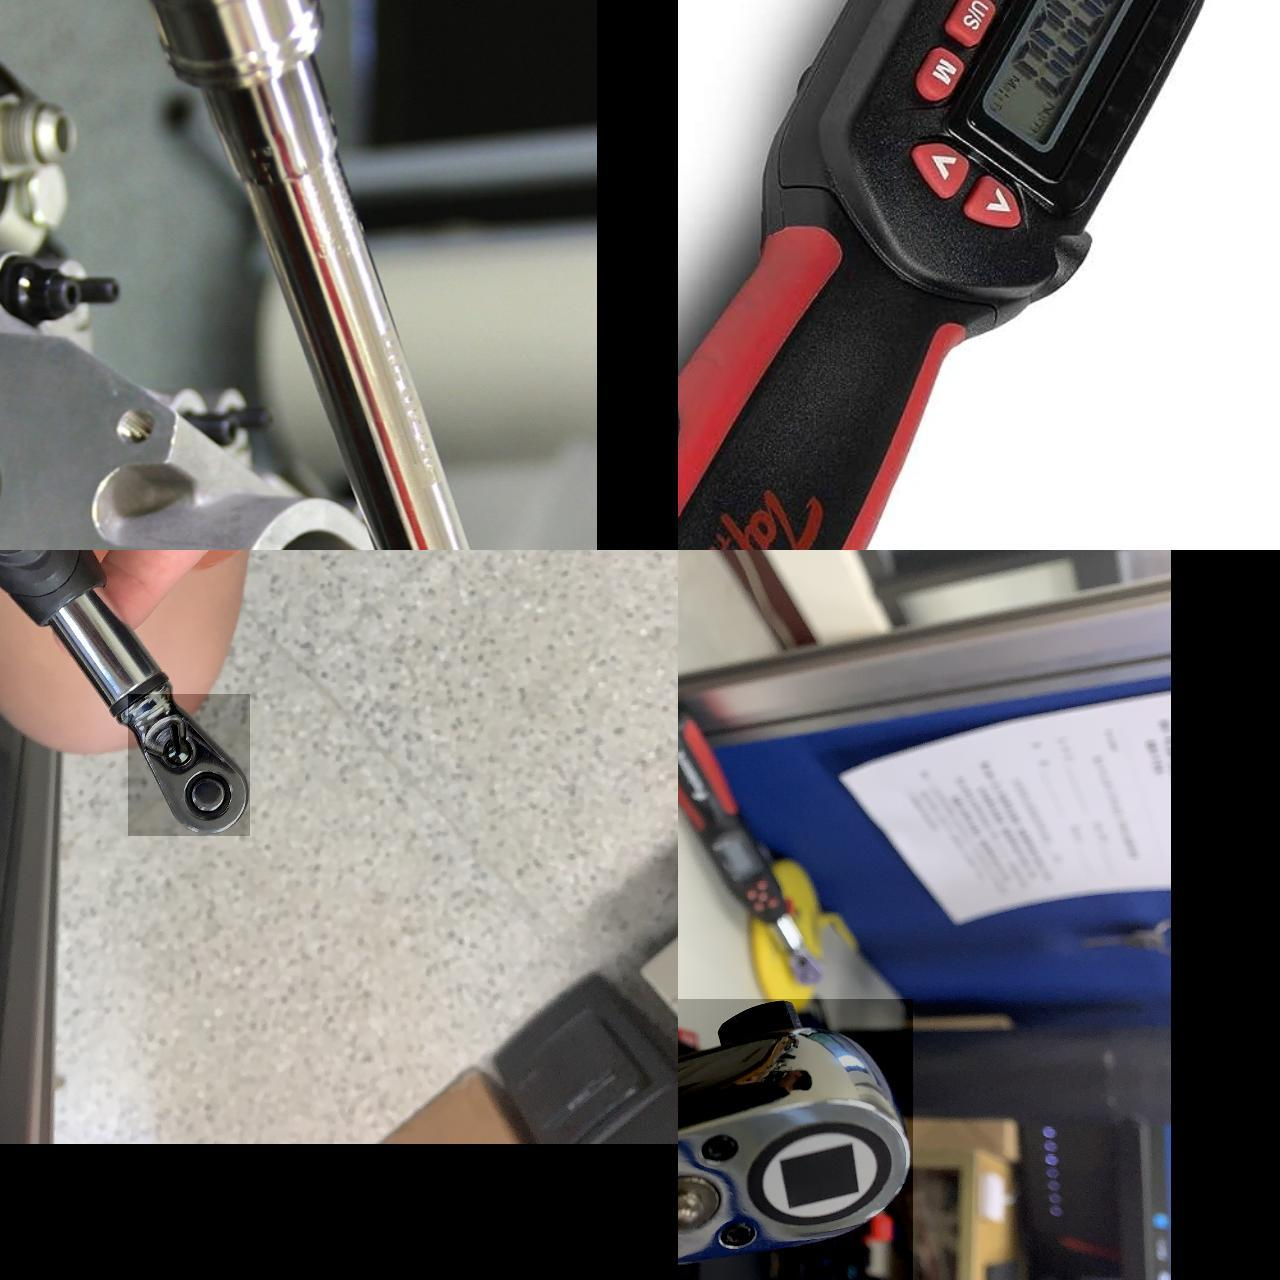Tool: (678, 999, 912, 1280), (127, 694, 248, 836)
